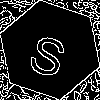S: (25, 25, 74, 80)
